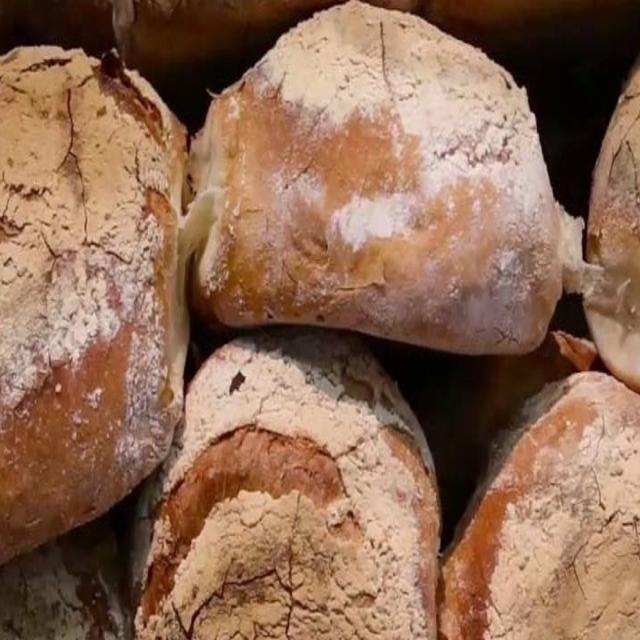Maltese-Bread: (190, 0, 569, 354), (0, 46, 188, 563), (134, 331, 439, 639), (440, 372, 640, 639)
